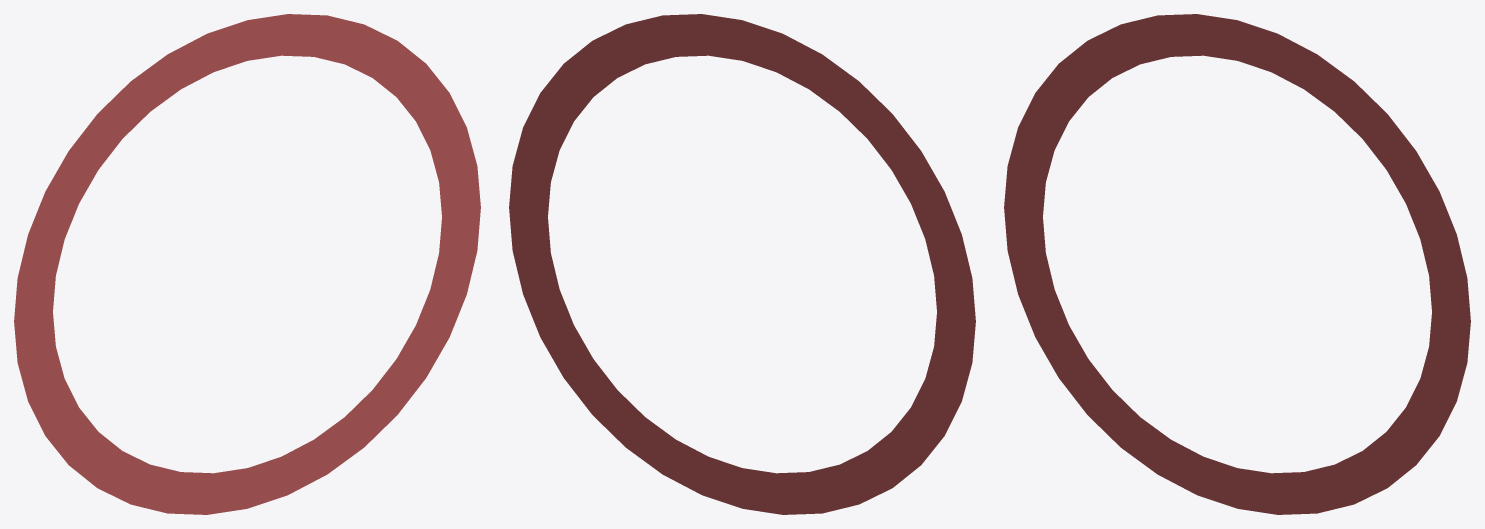
The model's file is bloodVessel - circlec4d.fbx.
3 views of the same model, side by side, from view 1: azimuth 30°, elevation 25°; view 2: azimuth 150°, elevation 25°; view 3: azimuth 330°, elevation 25° (orthographic).
Parts seen in each view (by area): view 1: Disc; view 2: Disc; view 3: Disc.
Part boxes in pixels (box(x1,y1,x2,y2)): Disc: box(14, 14, 480, 514); Disc: box(509, 14, 975, 514); Disc: box(1004, 14, 1470, 514).
Bounding box in the file's own units: 500 × 500 × 1.42e-13.
